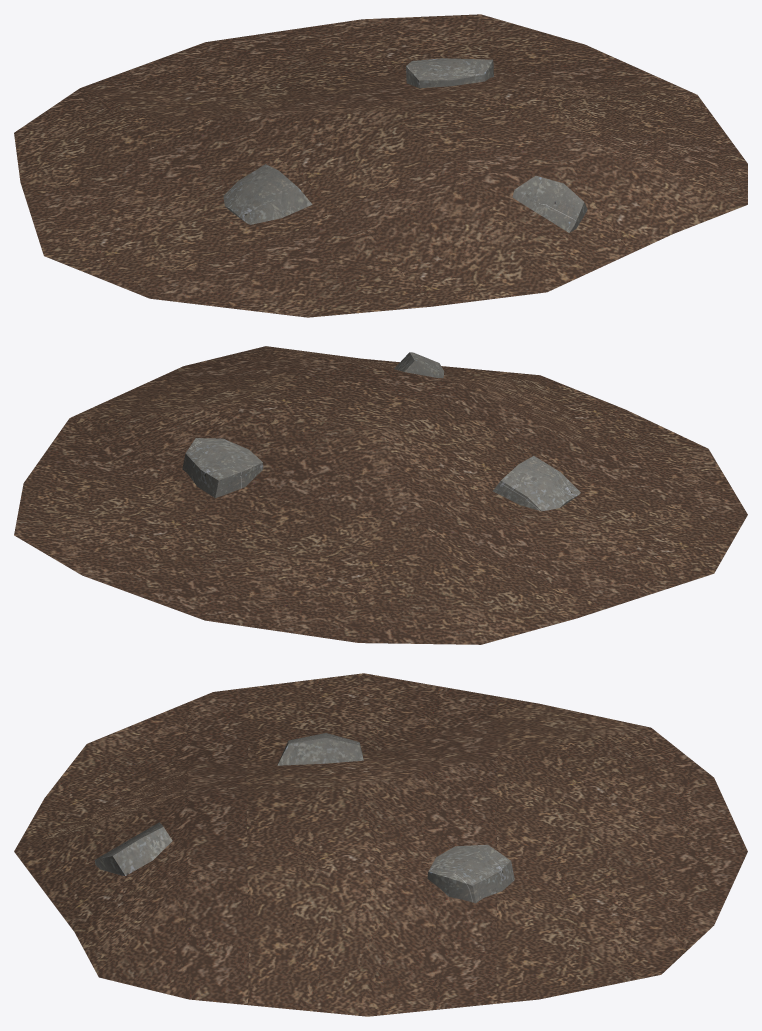
Rendered from Monticulo_01.FBX.
The picture shows the model from 3 angles, top to bottom: view 1: azimuth 30°, elevation 25°; view 2: azimuth 150°, elevation 25°; view 3: azimuth 270°, elevation 25°; orthographic projection. The views are drawn at different scales.
Visible parts, largest first — view 1: Monticulo_01; view 2: Monticulo_01; view 3: Monticulo_01.
Boxes of the visible parts, x1,y1,x2,y2 form: Monticulo_01: (14,14,747,317); Monticulo_01: (14,346,747,644); Monticulo_01: (14,673,747,1016).
Size of the model in its own units: 46.43 by 5.63 by 41.93.
